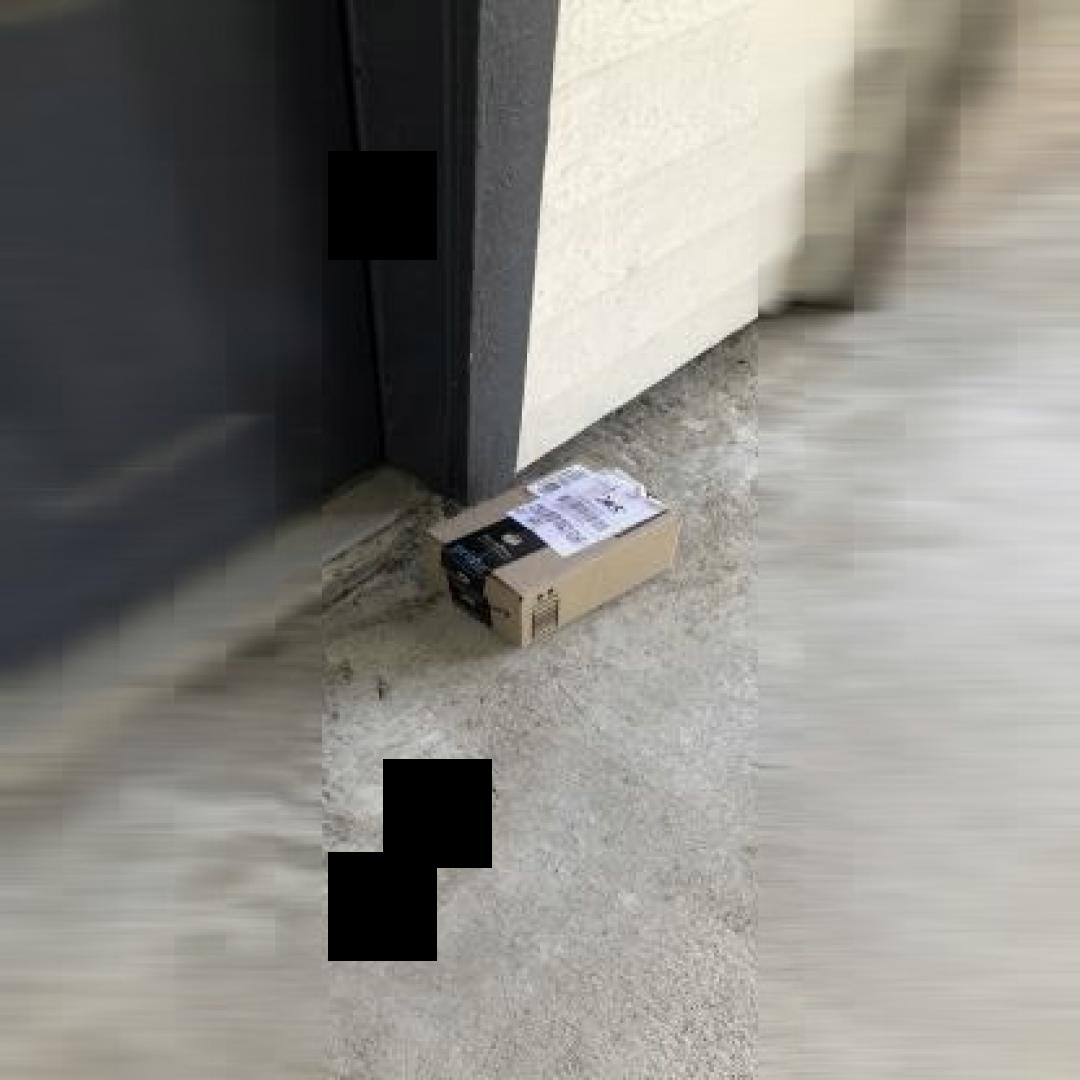package: (403, 449, 694, 665)
